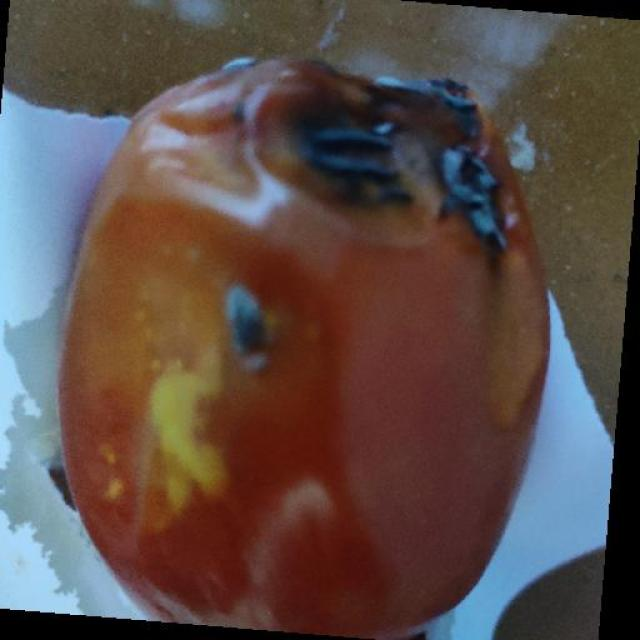Stale_tomato: (86, 70, 552, 639)
